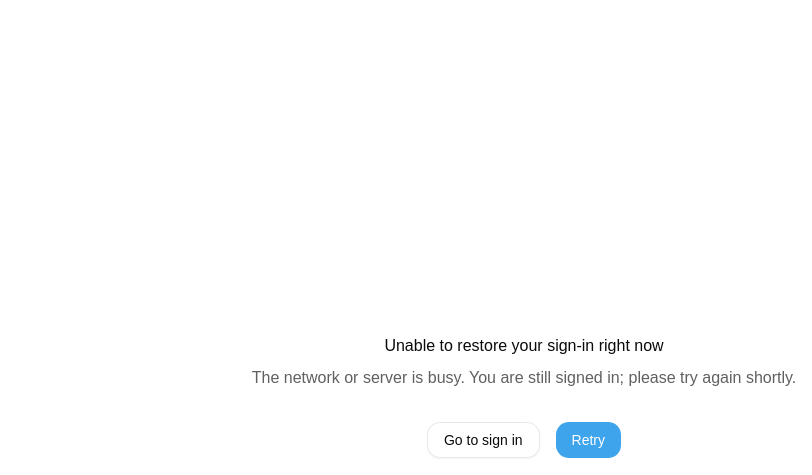
Test: Go to sign in opens the sign-in page with the page to return to
Expected: the text "Unable to restore your sign-in right now" is shown, [384,334,664,358]
Click the button "Go to sign in".
click(483, 440)  # box [427,422,540,458]
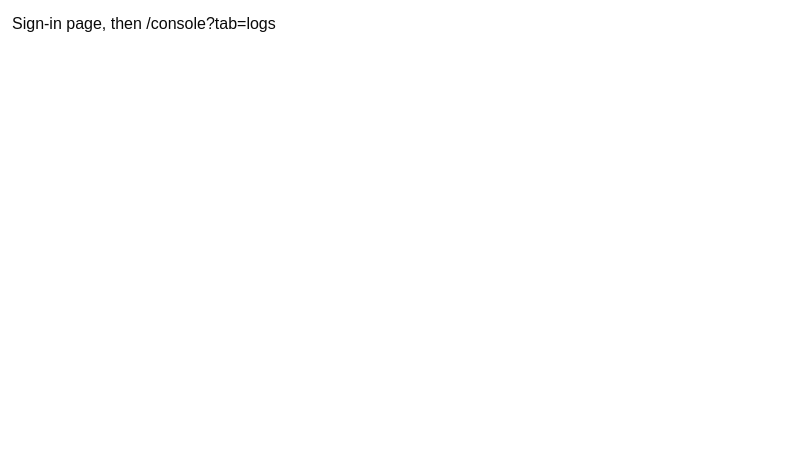
Expected: the text "Sign-in page, then /console?tab=logs" is shown, [12,15,276,32]
